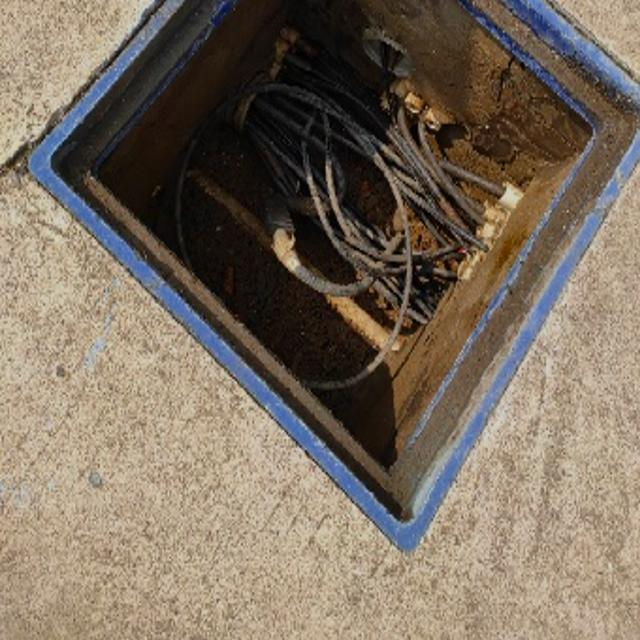lose: (24, 0, 640, 554)
